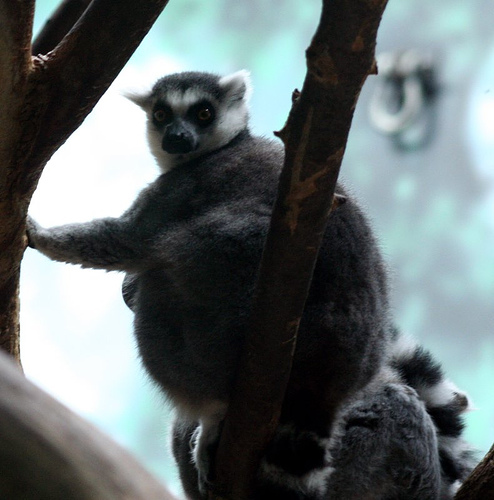cat: (26, 70, 468, 497)
